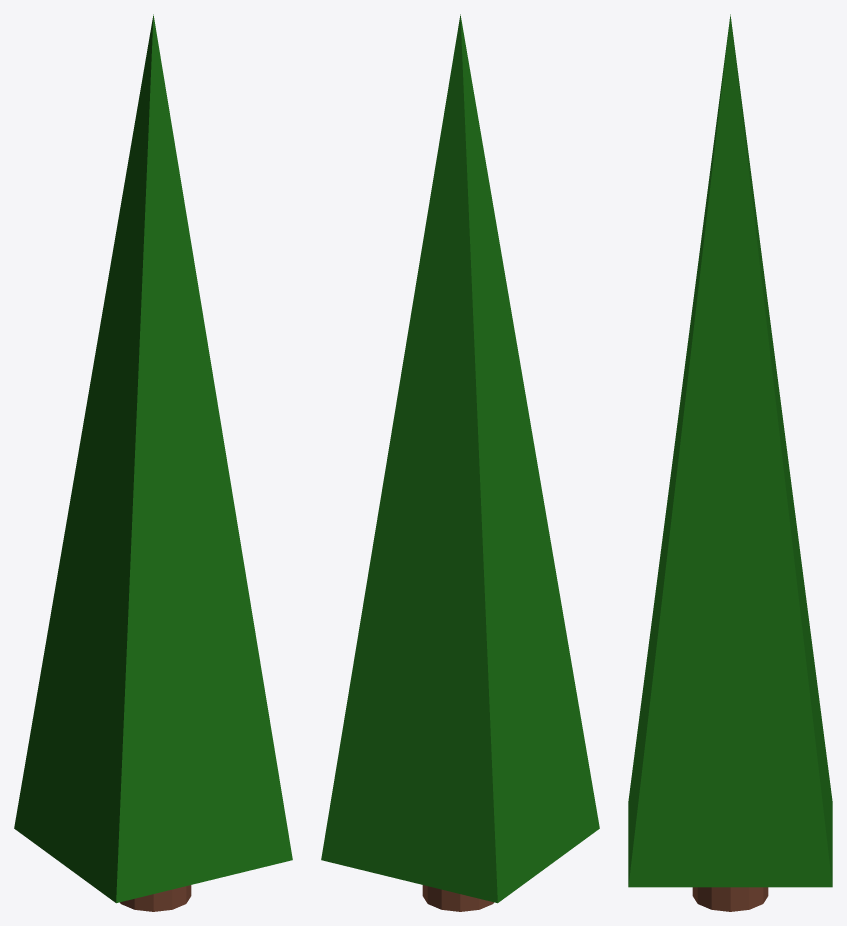
File: Tree_19_summer_vc.fbx
3 renders of one model, left to right at view 1: azimuth 30°, elevation 25°; view 2: azimuth 150°, elevation 25°; view 3: azimuth 270°, elevation 25°, orthographic.
Visible parts, largest first — view 1: Tree_19_summer_vc; view 2: Tree_19_summer_vc; view 3: Tree_19_summer_vc.
Part boxes in pixels (x1,y1,x2,y2): Tree_19_summer_vc: (14,14,292,911); Tree_19_summer_vc: (321,14,599,911); Tree_19_summer_vc: (628,14,832,911).
Bounding box in the file's own units: 1.55 × 7.4 × 1.55.
